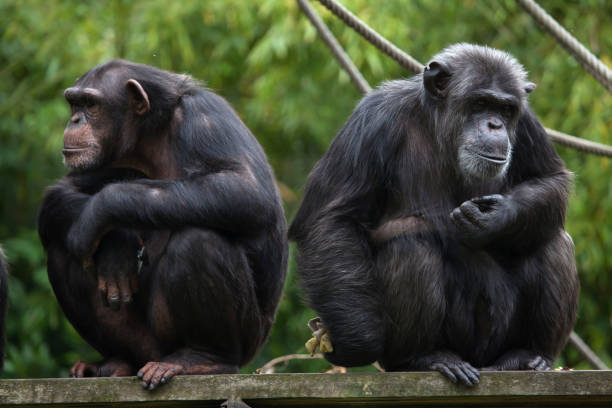chimpanzee: (404, 26, 549, 203), (20, 53, 174, 196)
